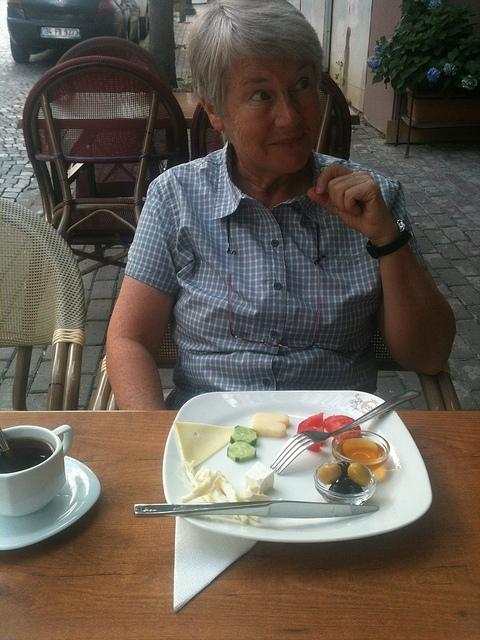cucumber: (227, 440, 257, 462), (230, 426, 257, 446)
tomato: (298, 412, 326, 452), (324, 414, 360, 438)
